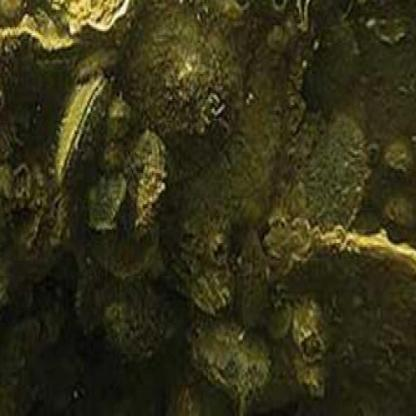Oyster-Closed: (281, 234, 416, 310), (80, 268, 180, 354), (304, 120, 369, 230), (57, 78, 111, 194), (194, 312, 267, 393)
